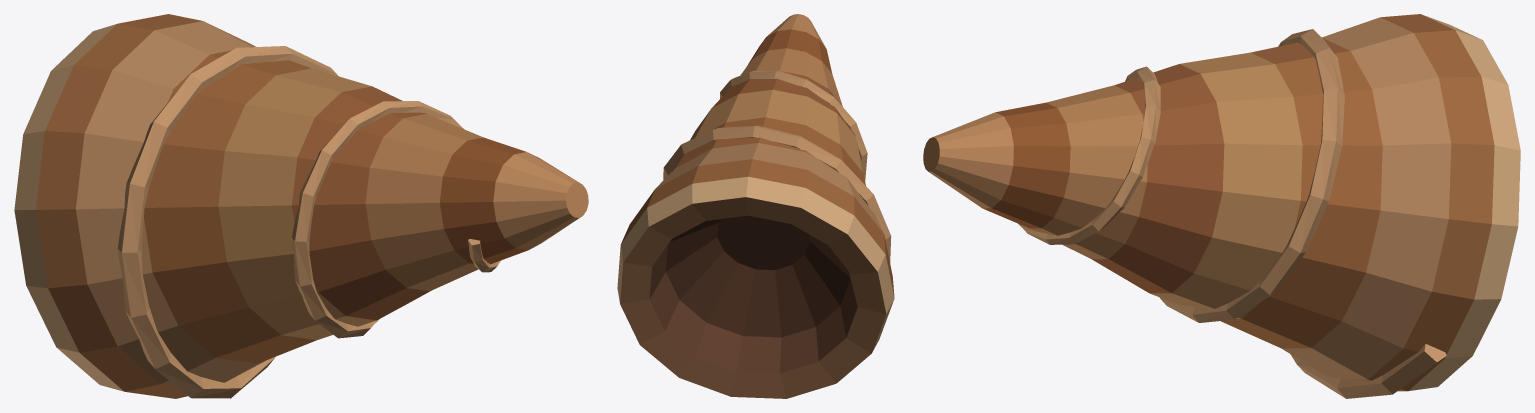
The model's file is duenenmeer_02.glb.
3 views of the same model, side by side, from view 1: azimuth 30°, elevation 25°; view 2: azimuth 150°, elevation 25°; view 3: azimuth 270°, elevation 25° (orthographic). The views are drawn at different scales.
Parts seen in each view (by area): view 1: duenenmeer_02; view 2: duenenmeer_02; view 3: duenenmeer_02.
Part boxes in pixels (box(x1,y1,x2,y2)): duenenmeer_02: box(14, 14, 588, 398); duenenmeer_02: box(617, 14, 894, 398); duenenmeer_02: box(923, 14, 1520, 398).
Size of the model in its own units: 1.35 by 1.26 by 2.
